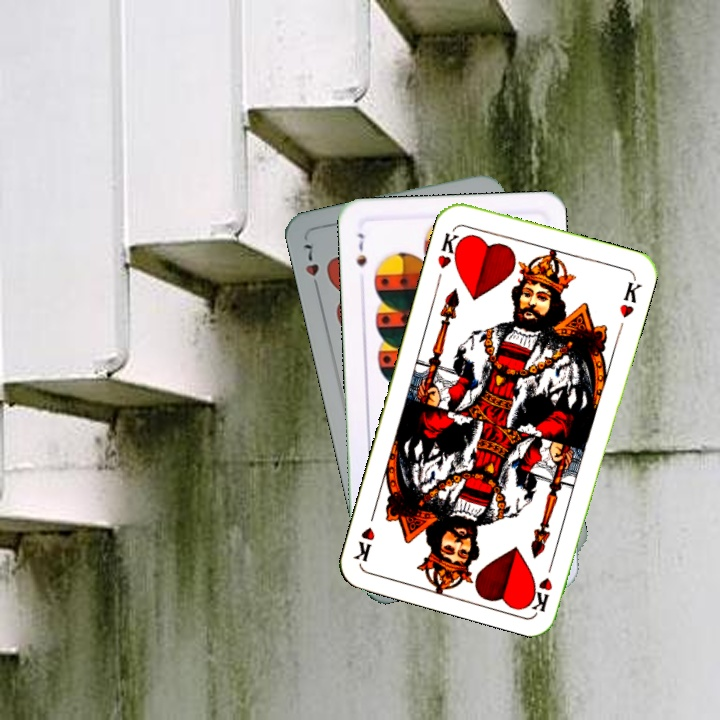H7: (299, 239, 322, 295)
HK: (527, 554, 557, 614), (433, 228, 467, 271)
S7: (352, 229, 369, 270)
